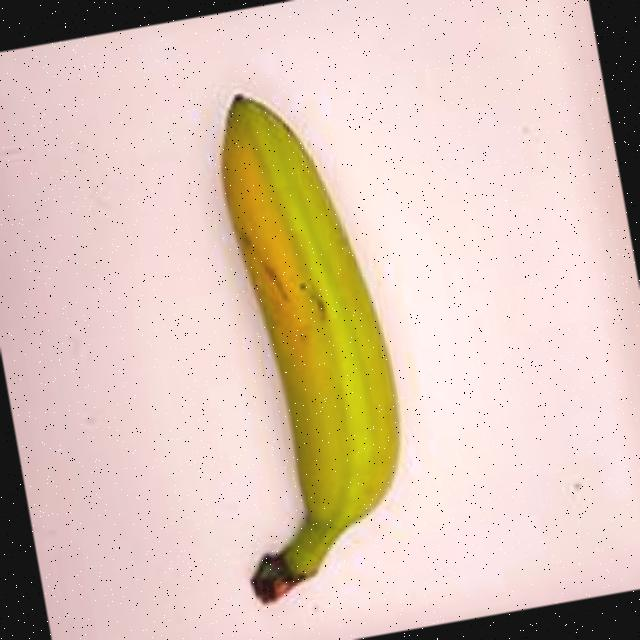Unripe: (129, 43, 456, 620)
